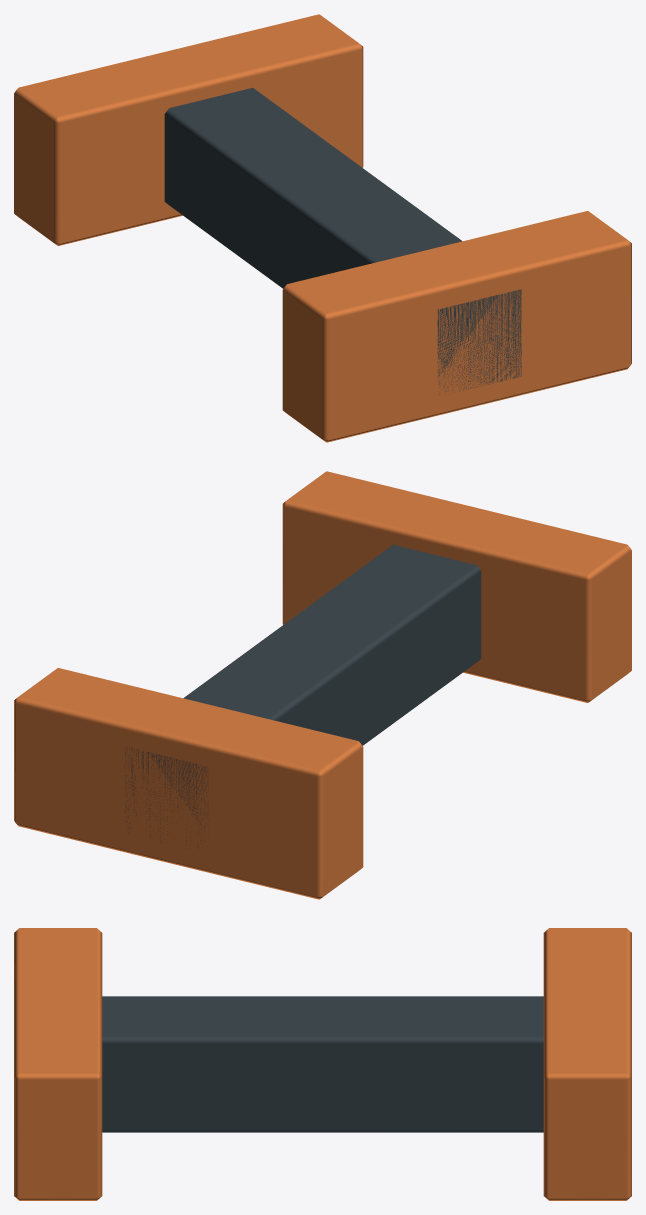
The model's file is recovery.glb.
The picture shows the model from 3 angles, top to bottom: view 1: azimuth 30°, elevation 25°; view 2: azimuth 150°, elevation 25°; view 3: azimuth 270°, elevation 25°; orthographic projection.
Visible parts, largest first — view 1: LugEndB, LugEndA, LinkBar; view 2: LugEndA, LugEndB, LinkBar; view 3: LinkBar, LugEndA, LugEndB.
Part boxes in pixels (x1=…): LugEndB: x1=282, y1=211, x2=631, y2=442; LugEndA: x1=14, y1=14, x2=363, y2=245; LinkBar: x1=164, y1=87, x2=521, y2=395; LugEndA: x1=14, y1=668, x2=363, y2=899; LugEndB: x1=282, y1=471, x2=631, y2=702; LinkBar: x1=124, y1=544, x2=481, y2=848; LinkBar: x1=102, y1=996, x2=543, y2=1132; LugEndA: x1=543, y1=928, x2=631, y2=1200; LugEndB: x1=14, y1=928, x2=102, y2=1200.
Bounding box in the file's own units: 0.2 × 0.08 × 0.35.
